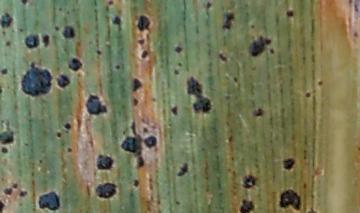tarspot: (120, 119, 146, 167), (20, 61, 52, 96), (185, 76, 212, 114), (249, 34, 272, 58), (84, 93, 108, 116), (278, 188, 300, 212), (37, 190, 59, 213), (95, 182, 117, 200), (95, 153, 115, 172), (1, 119, 15, 145), (136, 14, 153, 34), (23, 33, 41, 50), (54, 74, 72, 90), (221, 11, 235, 31), (240, 174, 257, 190), (67, 56, 83, 72), (60, 25, 77, 39), (1, 11, 15, 28), (239, 198, 254, 213), (131, 77, 143, 93), (112, 15, 123, 32), (281, 157, 294, 171), (143, 135, 157, 148), (176, 162, 188, 177), (2, 186, 14, 197), (41, 33, 50, 47), (218, 51, 228, 63), (171, 44, 184, 53), (254, 106, 263, 118), (136, 37, 145, 47), (171, 104, 179, 115), (353, 1, 360, 13), (285, 9, 294, 18), (1, 67, 10, 76), (63, 122, 73, 130), (140, 49, 148, 59), (172, 68, 180, 78), (132, 95, 139, 106), (316, 78, 324, 87), (1, 146, 9, 155), (52, 24, 61, 32), (18, 190, 28, 197), (351, 30, 359, 38), (141, 126, 149, 134), (55, 130, 62, 139), (205, 1, 212, 10), (305, 208, 317, 213), (304, 91, 311, 99), (65, 146, 73, 153), (11, 182, 19, 189), (1, 200, 5, 213), (268, 48, 275, 55), (95, 49, 102, 56), (249, 23, 256, 30), (133, 179, 139, 187), (4, 39, 10, 47), (228, 134, 233, 143), (114, 63, 120, 70), (19, 1, 27, 6), (347, 1, 353, 7), (17, 27, 23, 33), (232, 76, 237, 83), (176, 61, 181, 68), (107, 1, 114, 6), (1, 83, 2, 96)
